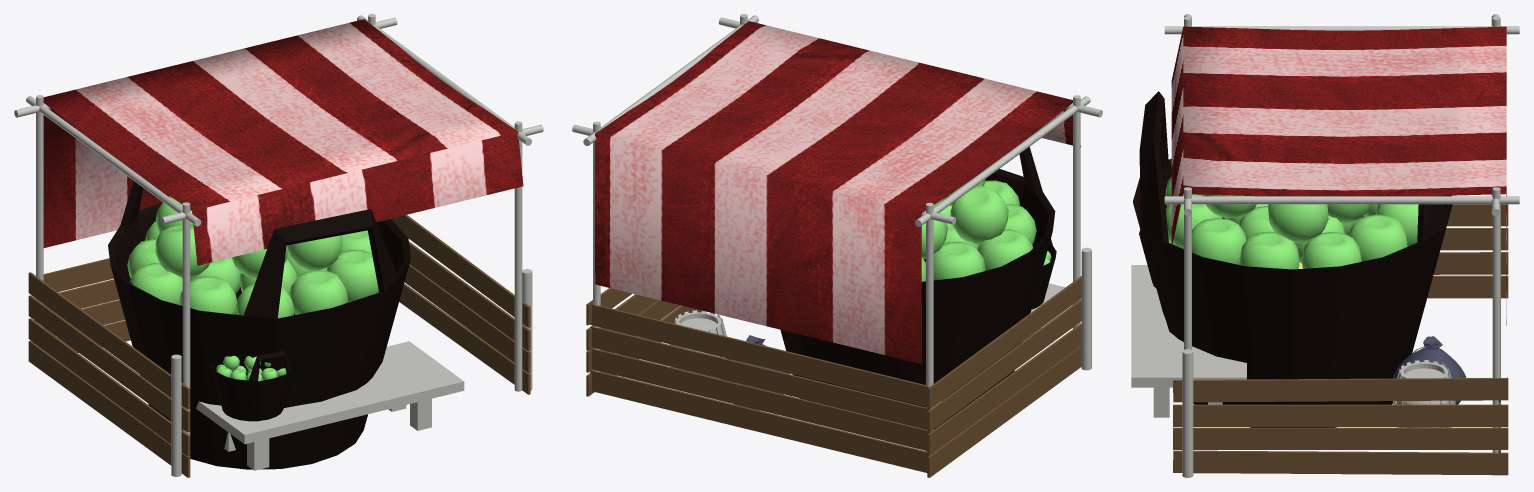
Rendered from merchant-post2.dae.
The picture shows the model from 3 angles, left to right: view 1: azimuth 30°, elevation 25°; view 2: azimuth 150°, elevation 25°; view 3: azimuth 270°, elevation 25°; orthographic projection. The views are drawn at different scales.
Visible parts, largest first — view 1: Plane, Circle_002, table, Cube_009, Cube_010, Cube_011, Cube_008, Circle_001, Cube_004, Cube_007, Cube_005, Cube_006 (+20 smaller); view 2: Plane, Circle_002, Cube, Cube_001, Cube_002, Cube_003, Cube_010, Cube_011, Cube_009, Cube_008, apple_044, pole_006 (+14 smaller); view 3: Plane, Circle_002, Cube_007, Cube_004, Cube_005, Cube_006, table, pole_007, apple_034, apple_029, apple_038, apple_032 (+16 smaller).
Boxes of the visible parts, x1,y1,x2,y2 form: Plane: (43, 19, 523, 265); Circle_002: (108, 181, 410, 469); table: (196, 341, 464, 470); Cube_009: (28, 318, 190, 456); Cube_010: (28, 295, 190, 432); Cube_011: (28, 272, 190, 409); Cube_008: (28, 340, 190, 477); Circle_001: (210, 350, 294, 421); Cube_004: (390, 215, 530, 327); Cube_007: (399, 283, 530, 394); Cube_005: (409, 241, 530, 350); Cube_006: (404, 264, 530, 372); Plane: (595, 21, 1080, 363); Circle_002: (780, 147, 1055, 429); Cube: (590, 370, 932, 472); Cube_001: (590, 348, 932, 450); Cube_002: (590, 326, 930, 428); Cube_003: (590, 304, 928, 406); Cube_010: (927, 299, 1081, 432); Cube_011: (927, 276, 1081, 409); Cube_009: (927, 323, 1081, 455); Cube_008: (927, 345, 1081, 477); apple_044: (950, 185, 1008, 244); pole_006: (915, 96, 1090, 226); Plane: (1171, 26, 1506, 325); Circle_002: (1133, 91, 1452, 427); Cube_007: (1173, 450, 1508, 475); Cube_004: (1173, 377, 1508, 402); Cube_005: (1173, 404, 1508, 426); Cube_006: (1173, 427, 1508, 449); table: (1131, 265, 1246, 417); pole_007: (1164, 196, 1519, 204); apple_034: (1348, 214, 1407, 261); apple_029: (1192, 218, 1246, 264); apple_038: (1268, 204, 1328, 242); apple_032: (1240, 231, 1299, 269).
Size of the model in its own units: 2.38 by 2.01 by 1.73.
7 materials, 1 textured.
